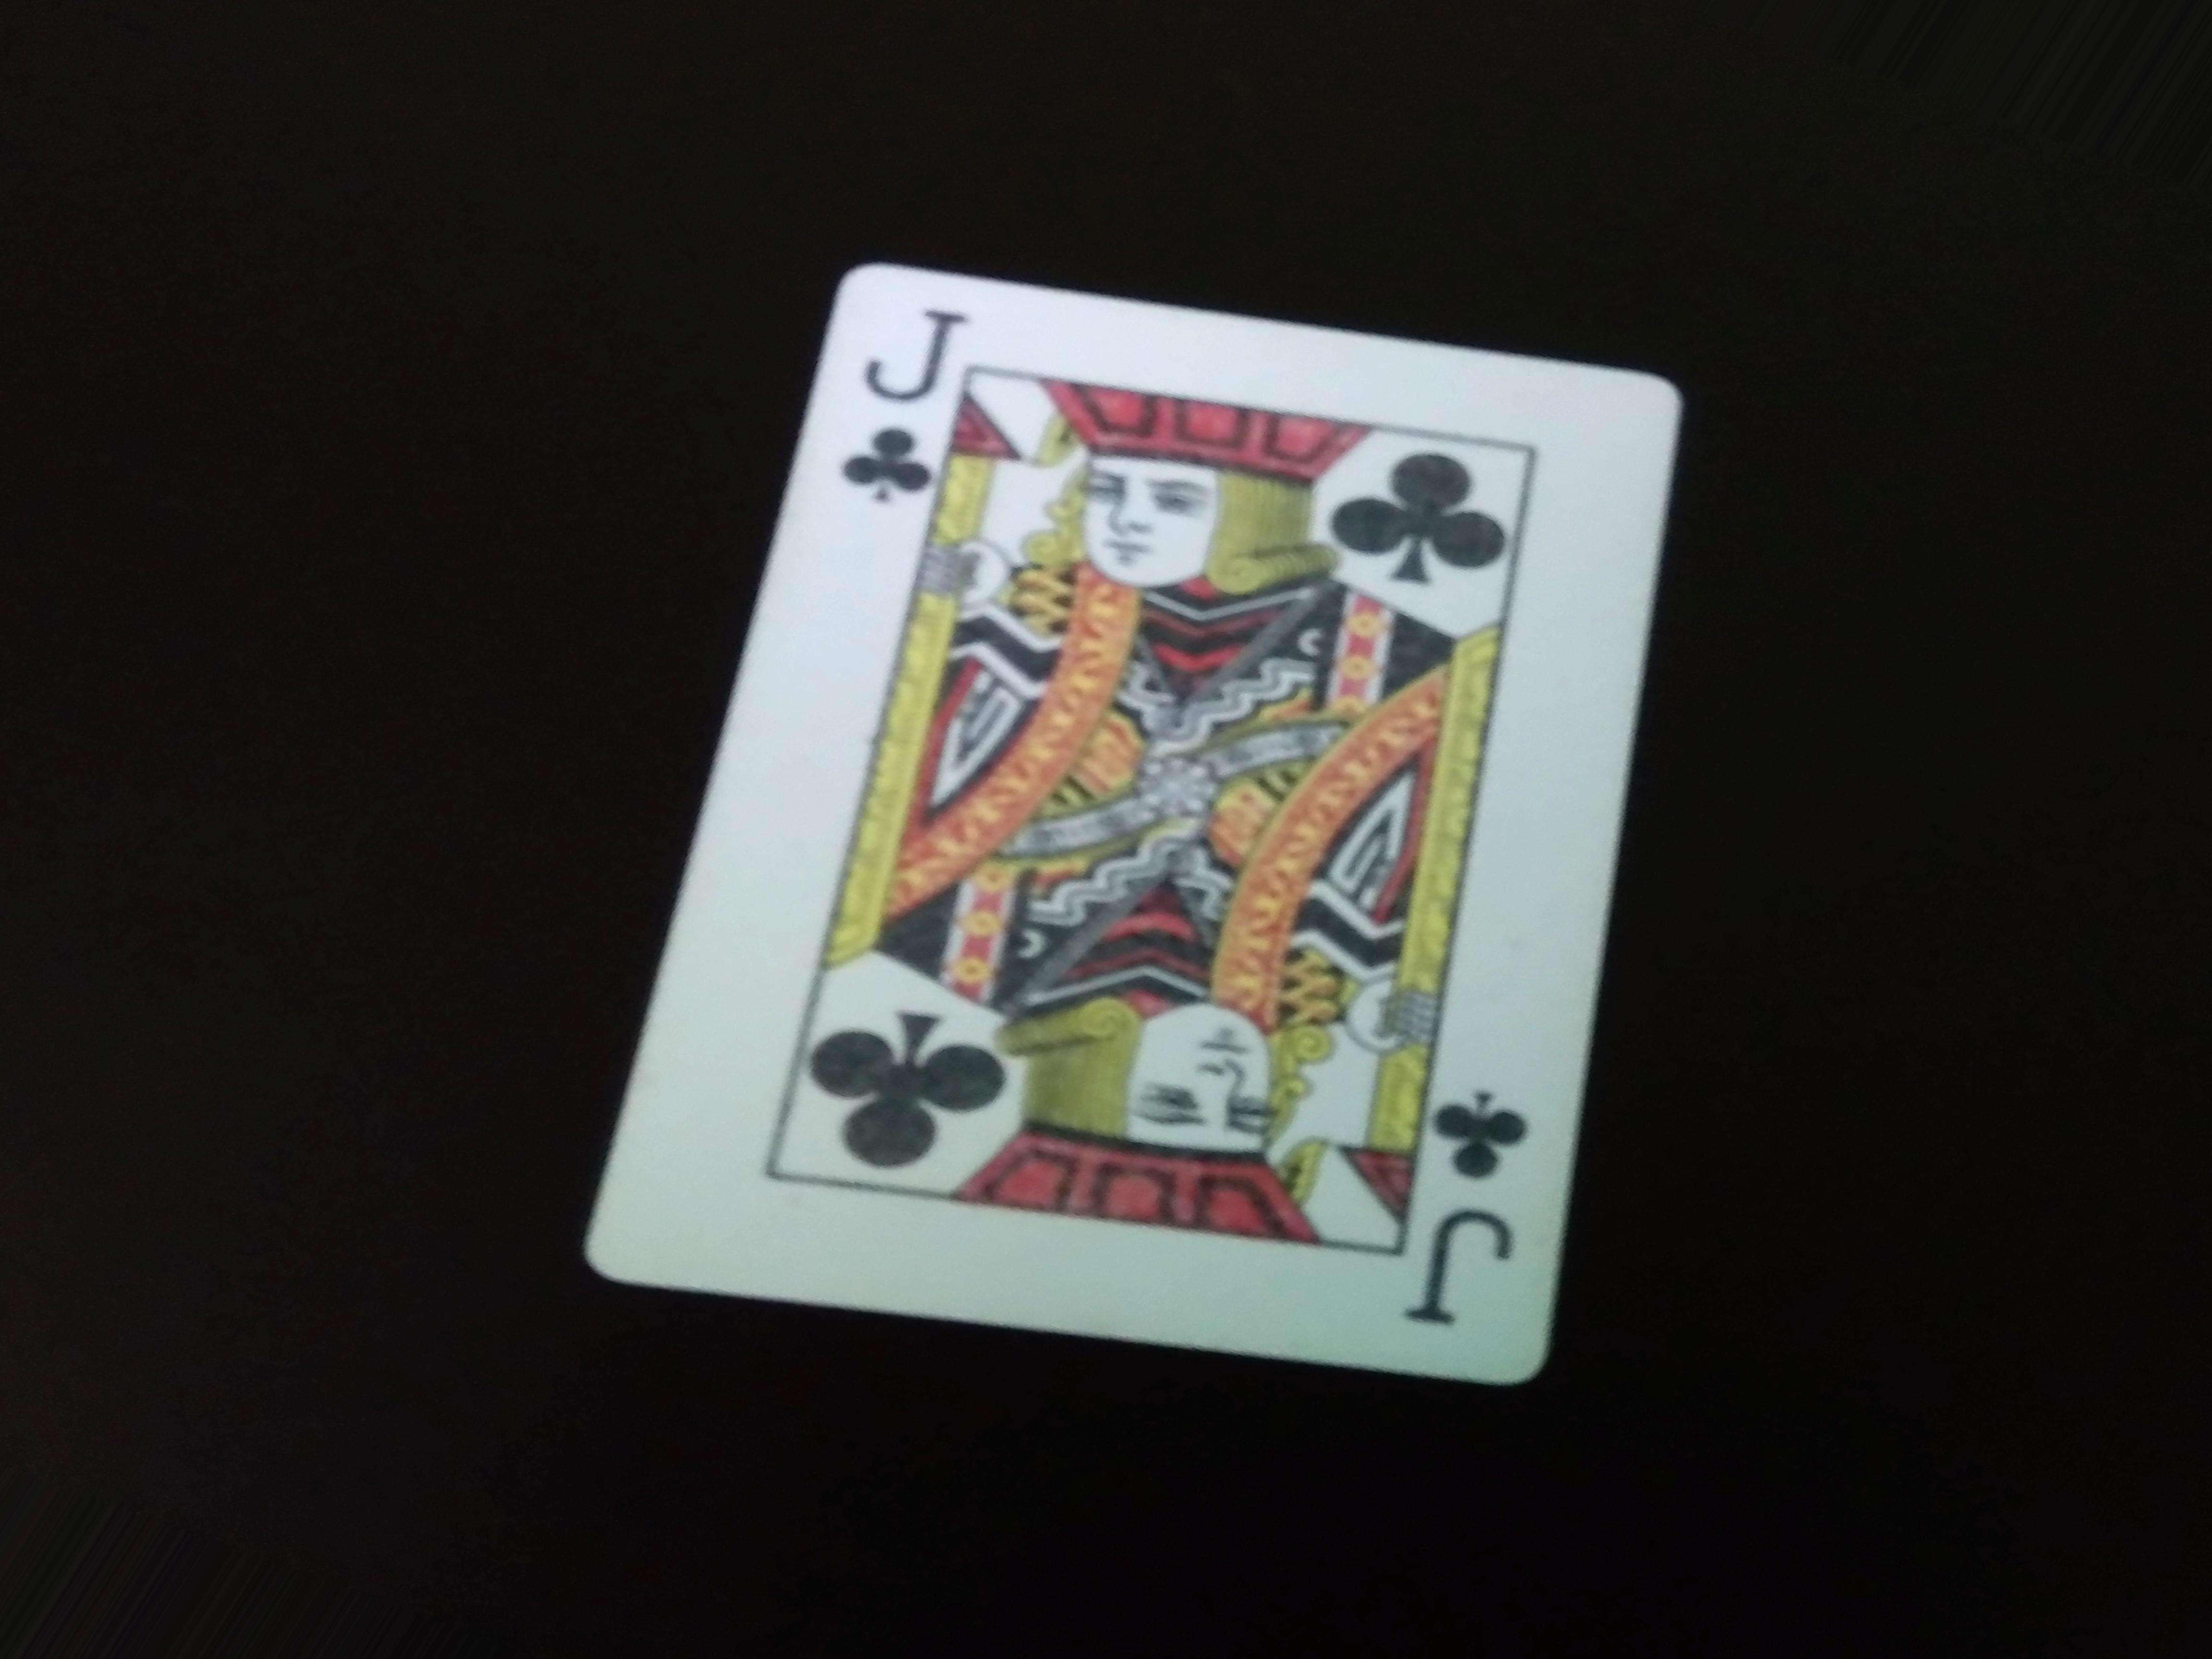JC: (831, 267, 979, 540)
